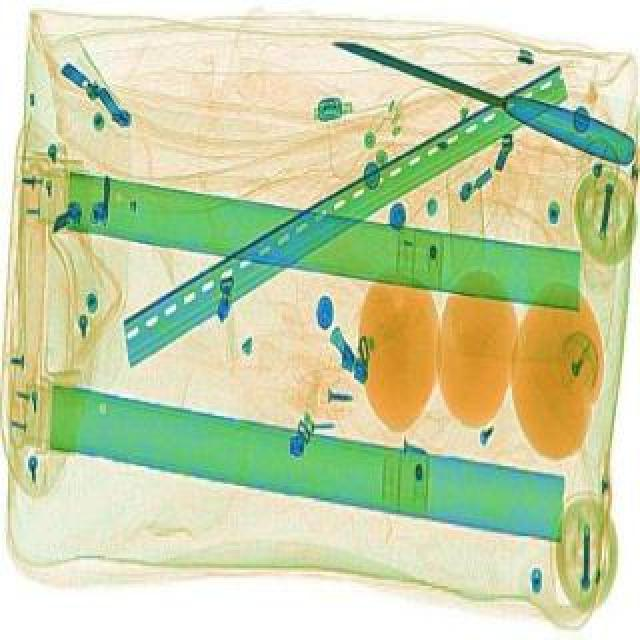knife: (328, 28, 640, 172)
